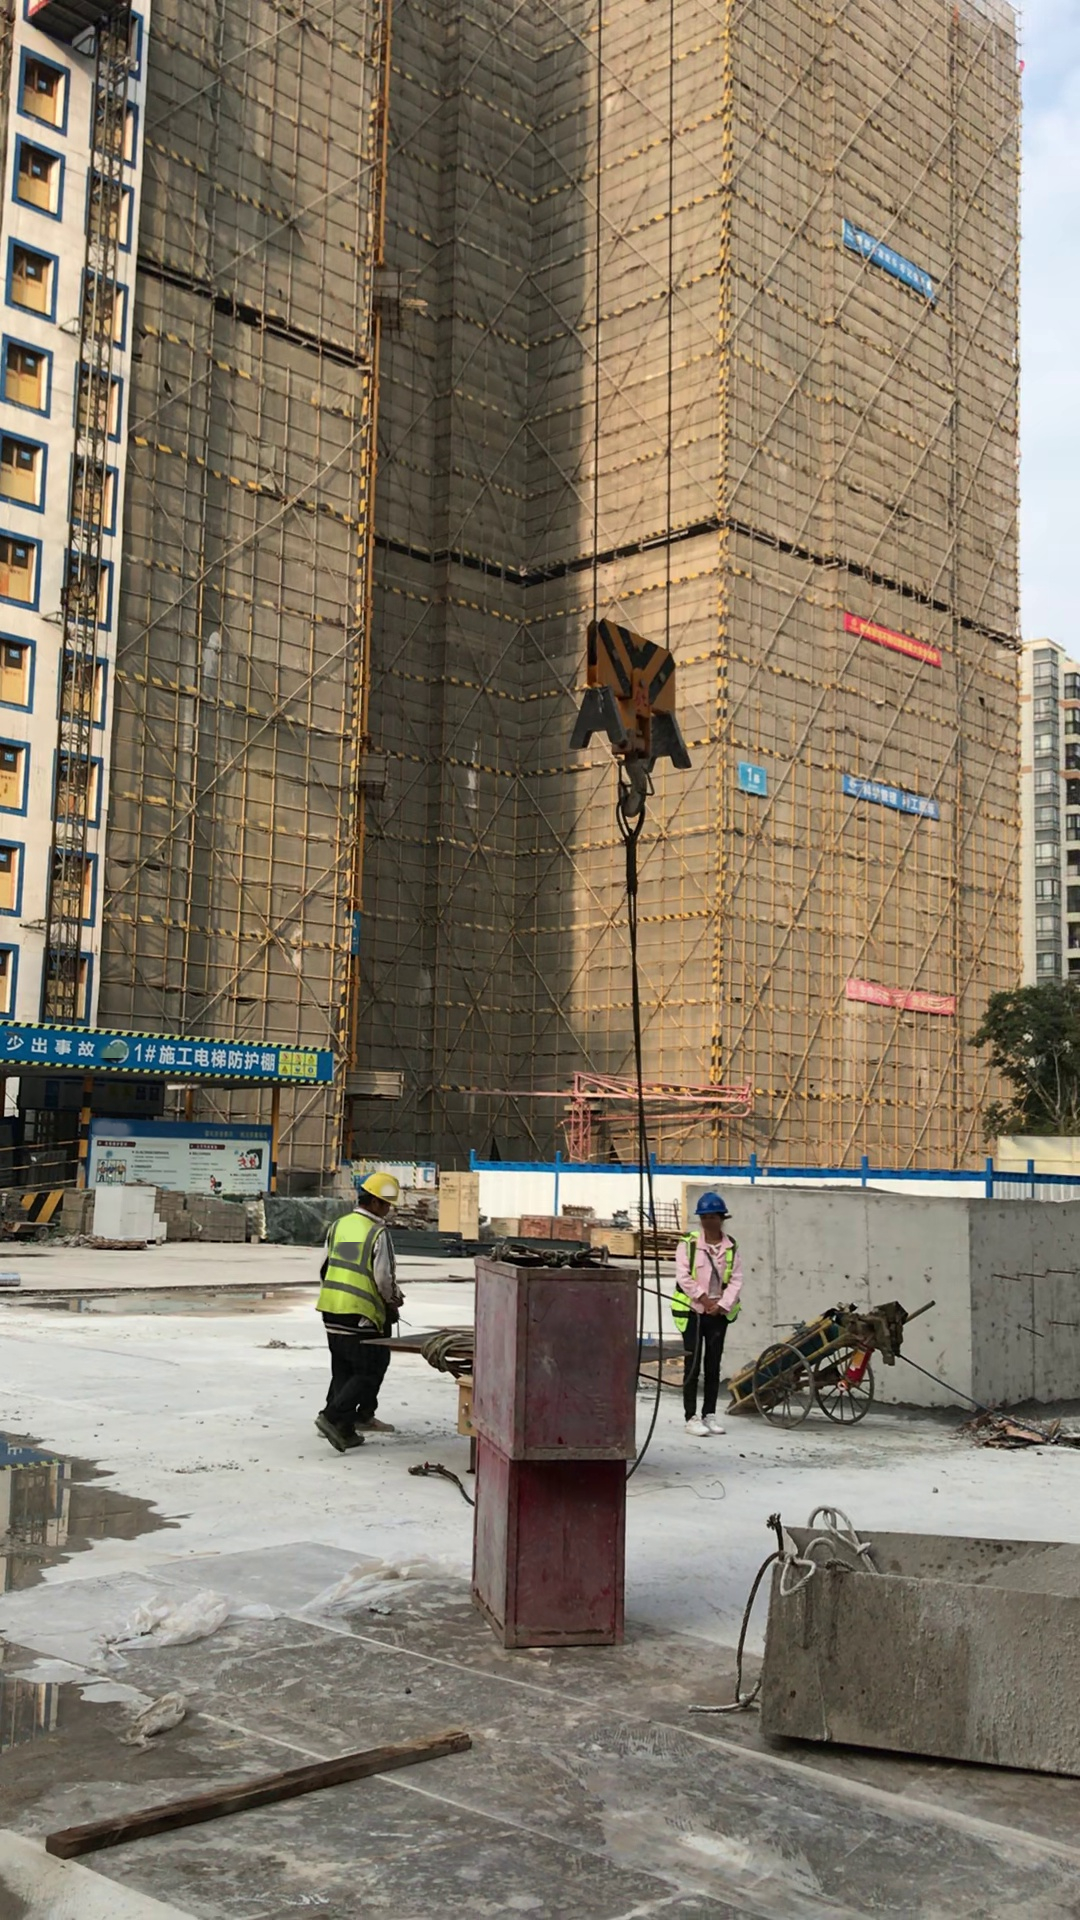brick: (86, 1177, 163, 1246)
ebox: (445, 1367, 477, 1445)
fence: (1, 1140, 82, 1190)
handcart: (717, 1275, 954, 1452)
helmet: (350, 1164, 410, 1206), (689, 1190, 749, 1220)
hook: (547, 609, 722, 879)
hopper: (743, 1490, 1080, 1793)
person: (299, 1148, 422, 1473), (651, 1186, 776, 1465)
slogan: (1, 1001, 344, 1099), (67, 1118, 299, 1186), (818, 216, 953, 314), (838, 594, 970, 675), (801, 760, 950, 826), (831, 969, 965, 1026), (723, 739, 778, 811)
vest: (320, 1208, 394, 1329), (668, 1230, 749, 1341)
wood: (156, 1184, 250, 1245), (59, 1184, 93, 1236)
